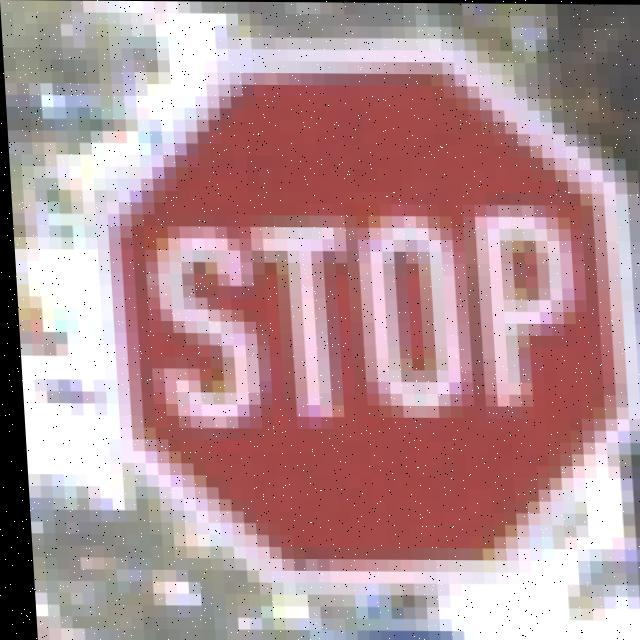stop: (99, 44, 640, 563)
